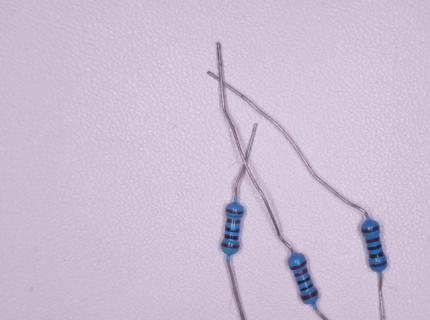Brown band: (367, 236, 380, 243), (227, 218, 241, 224)
